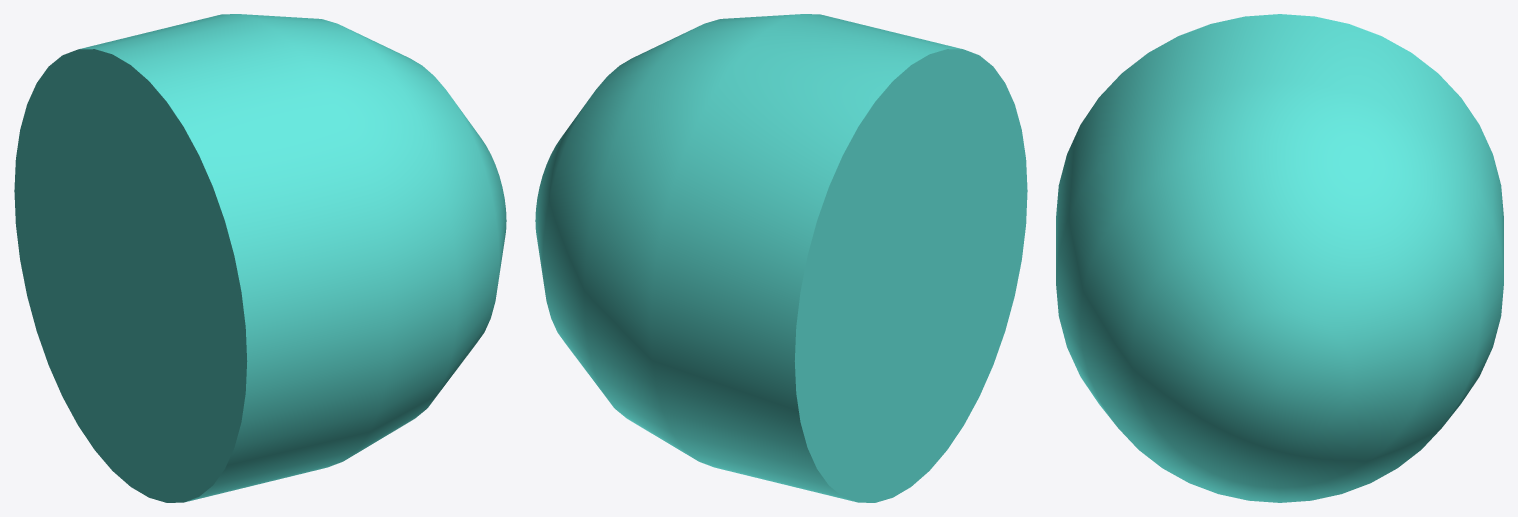
The model's file is bala_diamante.obj.
3 renders of one model, left to right at view 1: azimuth 30°, elevation 25°; view 2: azimuth 150°, elevation 25°; view 3: azimuth 270°, elevation 25°, orthographic. The views are drawn at different scales.
Size of the model in its own units: 0.0392 by 0.0448 by 0.0448.
